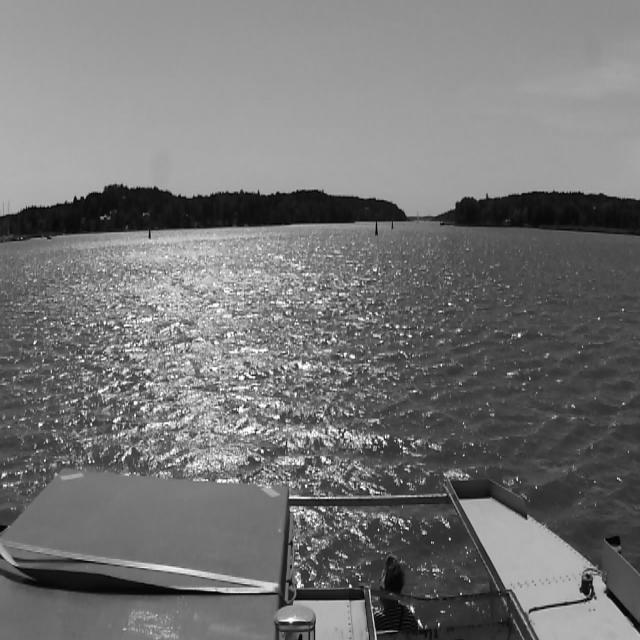buoy: (375, 220, 377, 237), (148, 228, 150, 240), (391, 220, 393, 228)
